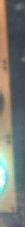Green: (1, 4, 24, 210)
